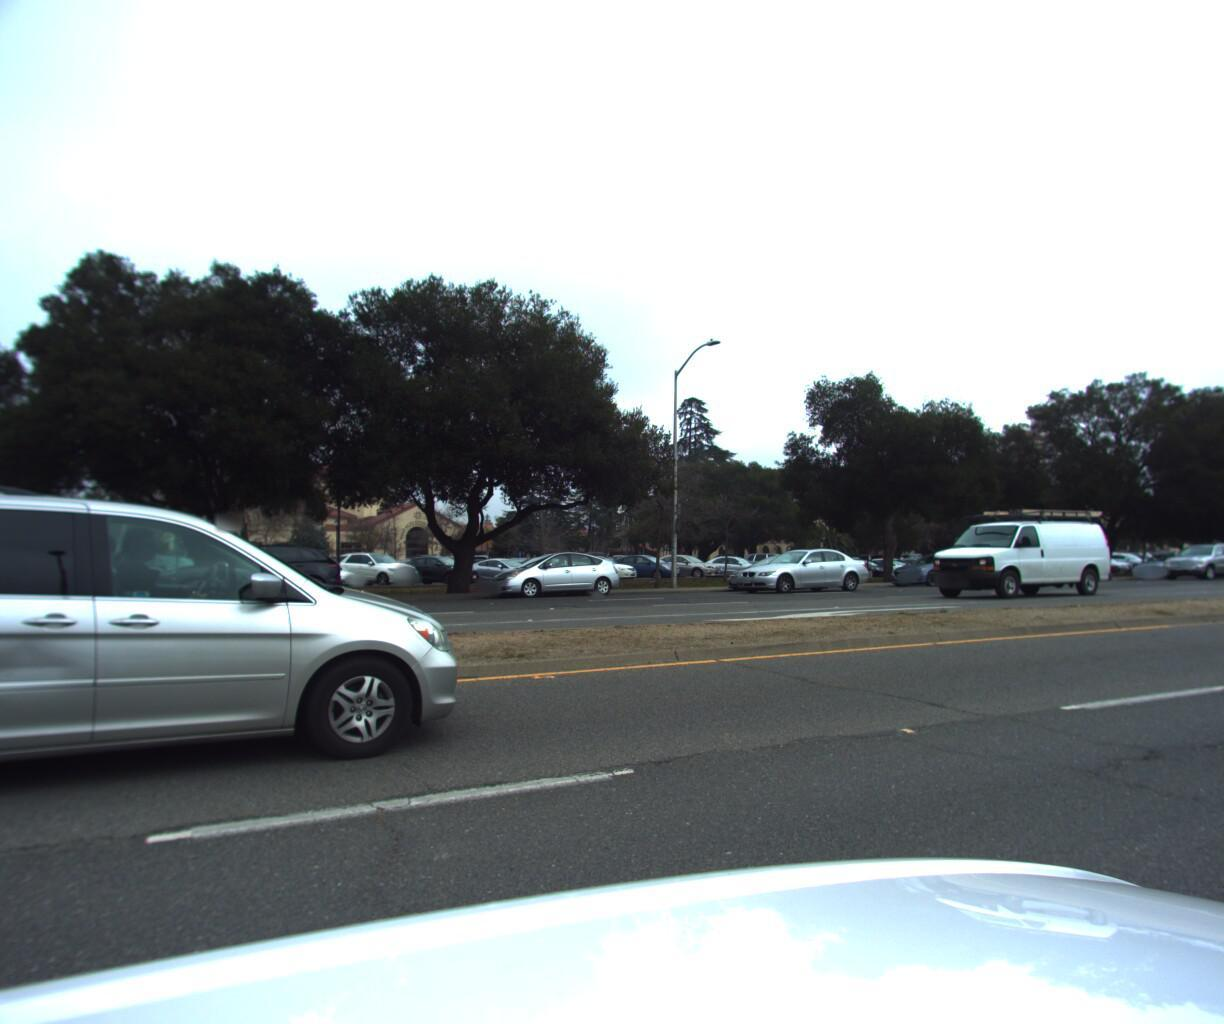car: (0, 460, 487, 882), (914, 504, 1113, 600), (147, 545, 350, 613), (477, 549, 628, 601), (728, 544, 877, 592), (716, 550, 844, 592), (881, 549, 989, 587), (1153, 539, 1224, 580), (1121, 547, 1209, 577)
